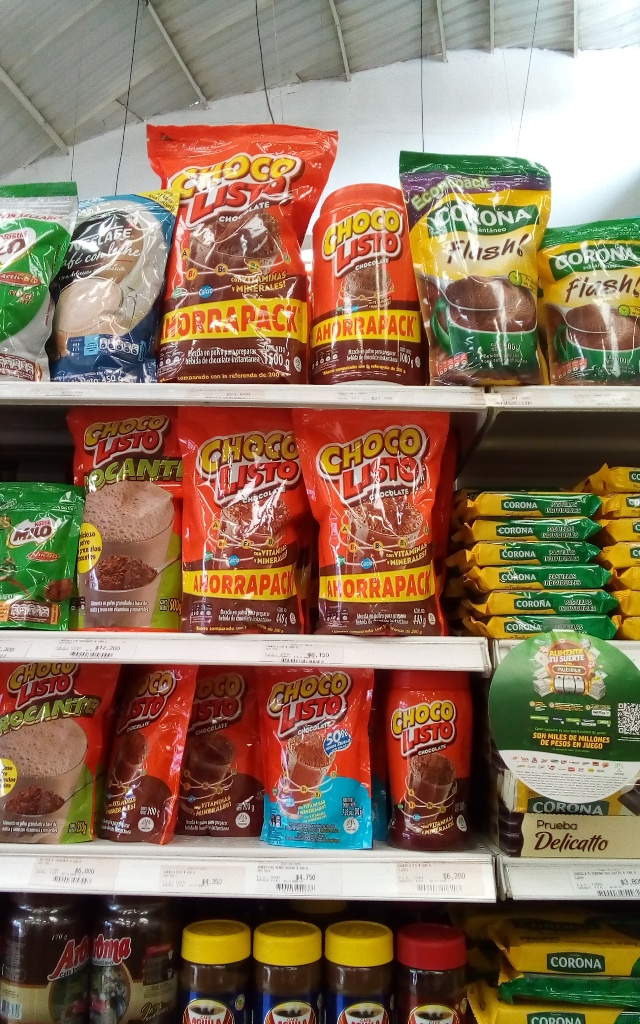COL0170102DYP50000: (66, 404, 183, 633)
COL0170103DYP1,500: (147, 122, 334, 383)
COL0170103DYP44000: (289, 406, 453, 636)
COL0170103TRR00100: (305, 184, 428, 386)
COL0170103TRR30000: (383, 670, 484, 853)
COL0170104DYP20000: (259, 662, 372, 848)
COL0170203DYP10000: (1, 478, 87, 632)
